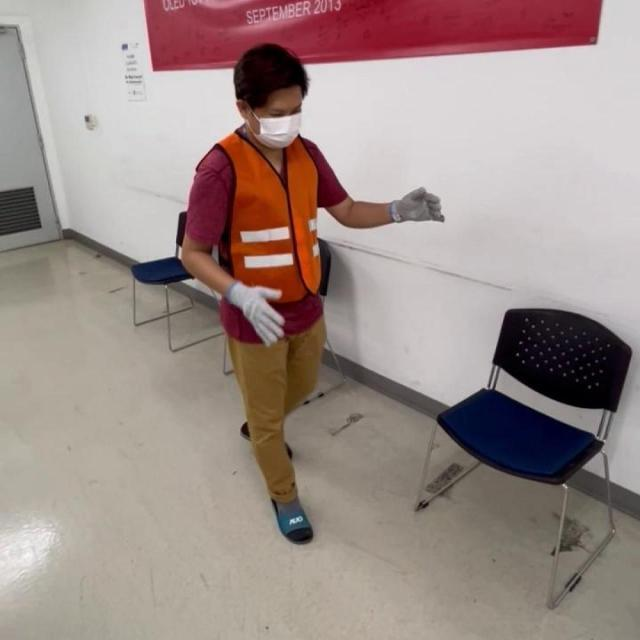gloved_hand: (228, 275, 289, 351), (389, 182, 446, 232)
